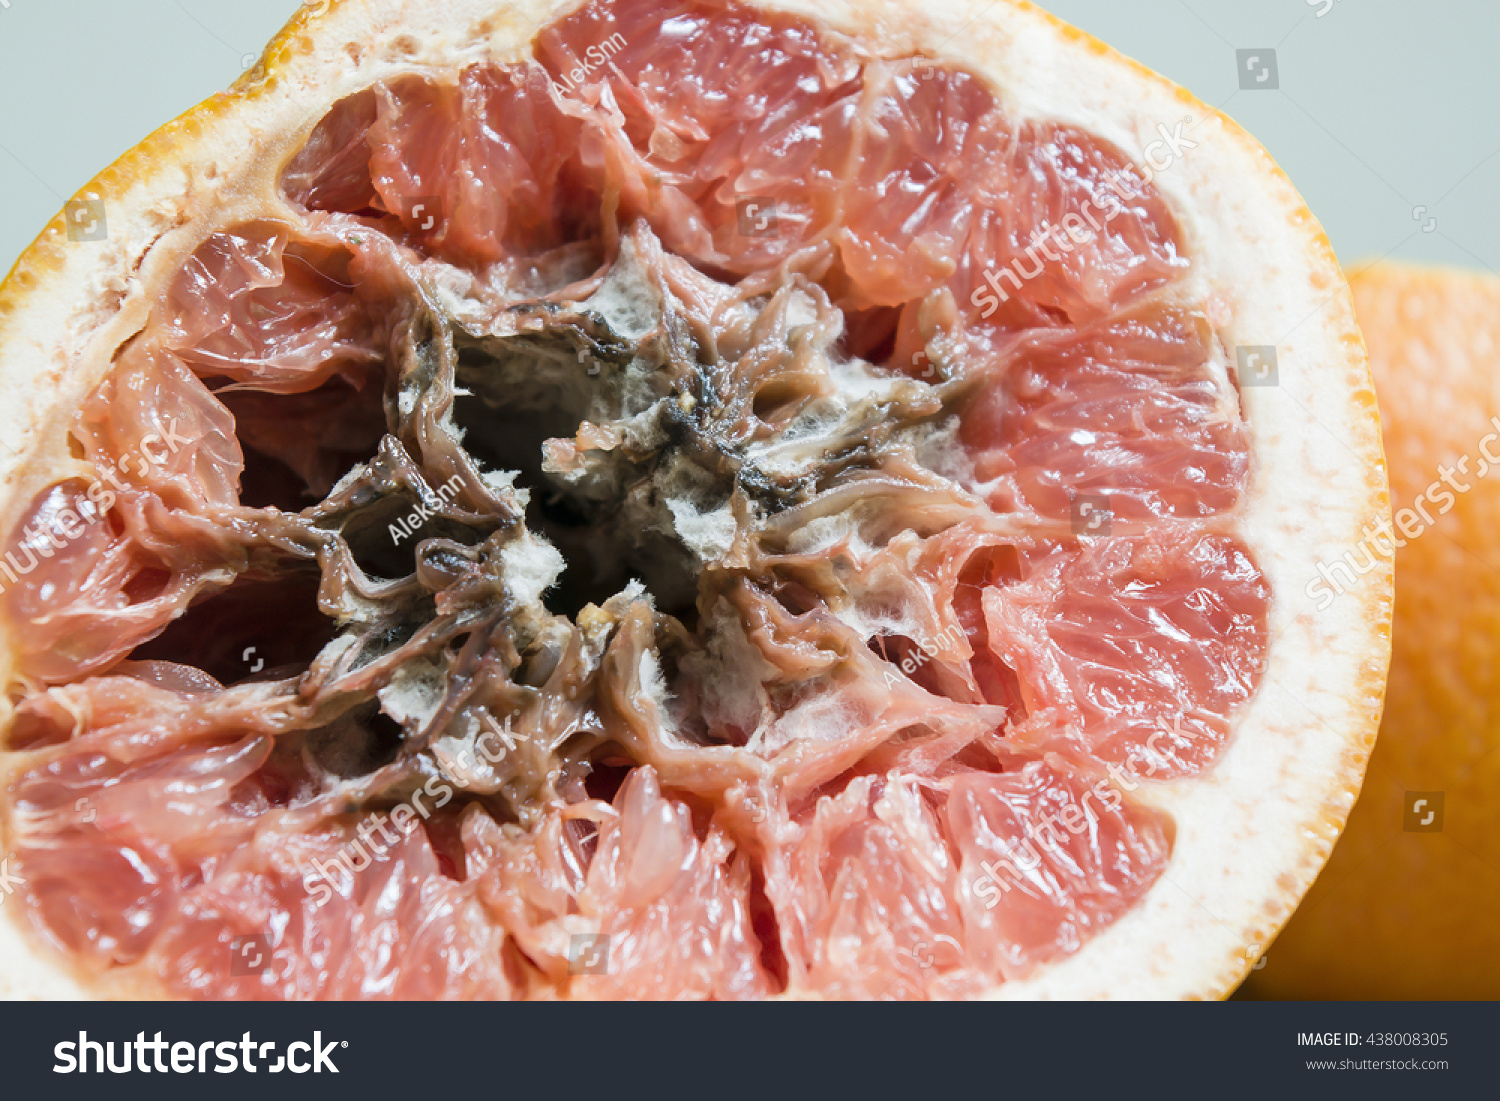damaged_grapefruit: (24, 15, 1399, 1002)
